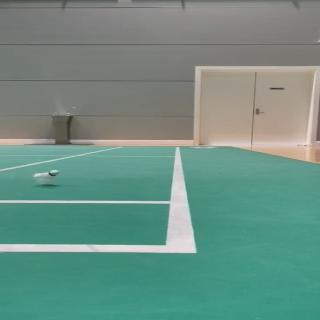Shuttle: (32, 170, 59, 185)
